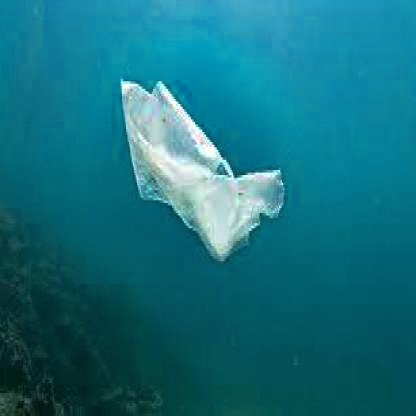pbag: (119, 76, 285, 264)
